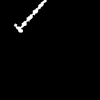half_double_crochet: (14, 0, 45, 31)
